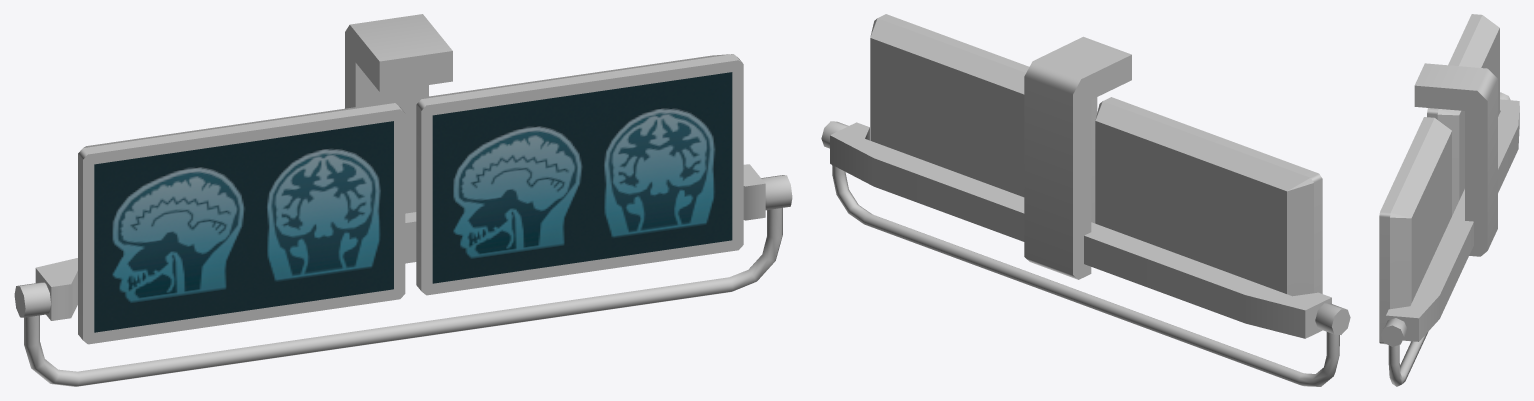
File: Monitor_06_Part_03.fbx
3 renders of one model, left to right at view 1: azimuth 30°, elevation 25°; view 2: azimuth 150°, elevation 25°; view 3: azimuth 270°, elevation 25°, orthographic. The views are drawn at different scales.
Parts seen in each view (by area): view 1: Monitor_06_Part_03; view 2: Monitor_06_Part_03; view 3: Monitor_06_Part_03.
Part boxes in pixels (x1,y1,x2,y2): Monitor_06_Part_03: [14, 14, 792, 386]; Monitor_06_Part_03: [821, 14, 1350, 386]; Monitor_06_Part_03: [1379, 14, 1519, 386].
Size of the model in its own units: 153 by 38.63 by 62.96.
